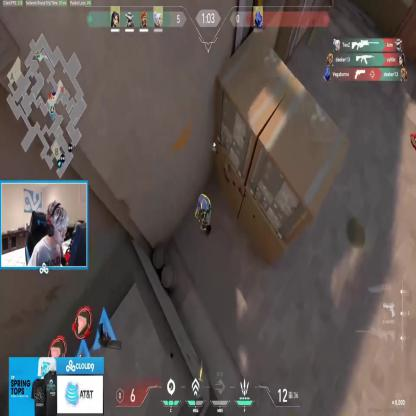enemy: (195, 192, 212, 236)
enemy_head: (201, 199, 207, 210)
